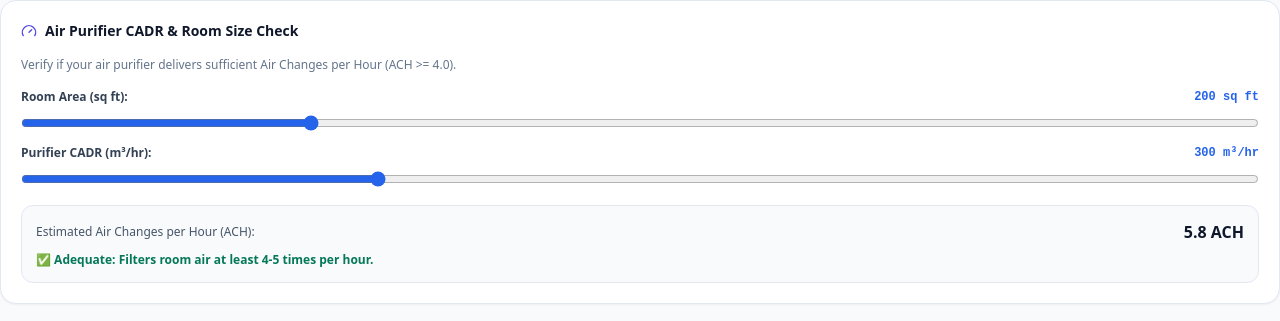
Test: Interactive Components Suite › PurifierAdequacyTool updates ACH when room size or CADR sliders change
Set the slider labelled "Room Area (sq ft):" to "400" at point(781, 123), box [21,119,1259,127]
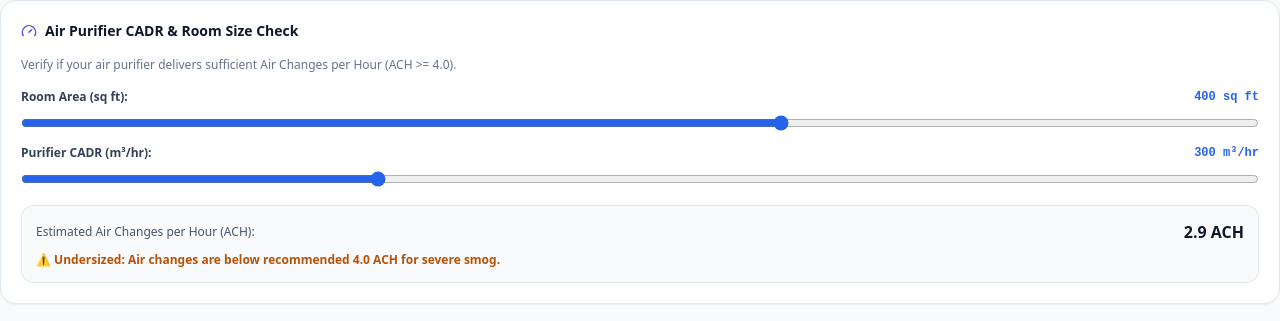
Expected: the text "400 sq ft" is shown, [1194,89,1259,105]
